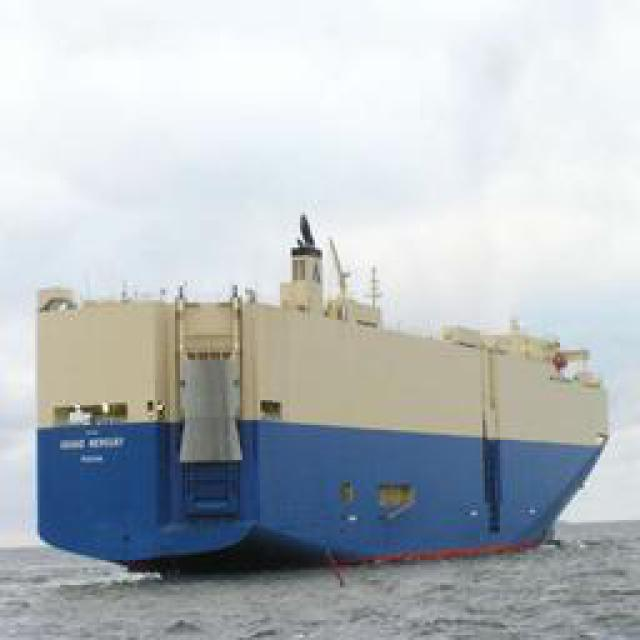Ship: (44, 290, 607, 583)
